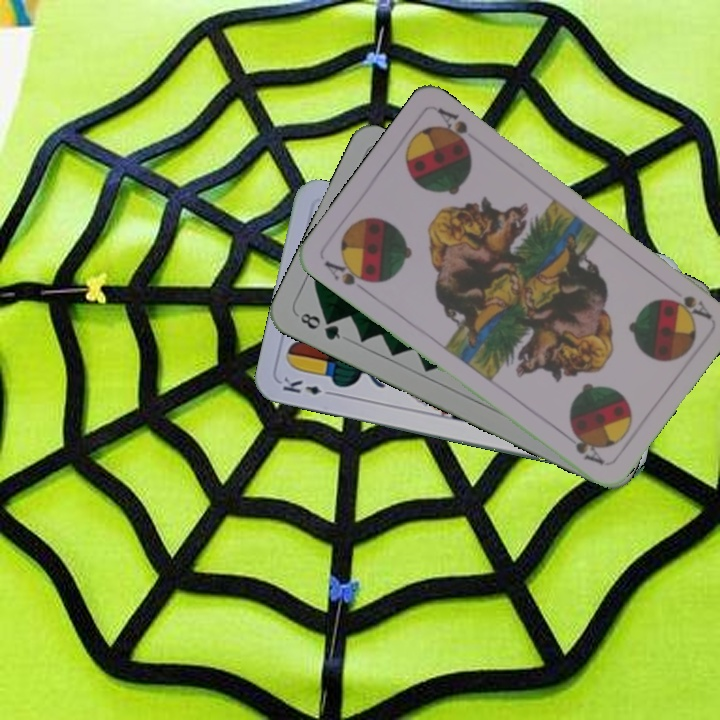EK: (278, 372, 337, 398)
G8: (294, 308, 343, 343)
SA: (320, 256, 376, 296), (669, 291, 714, 322)
